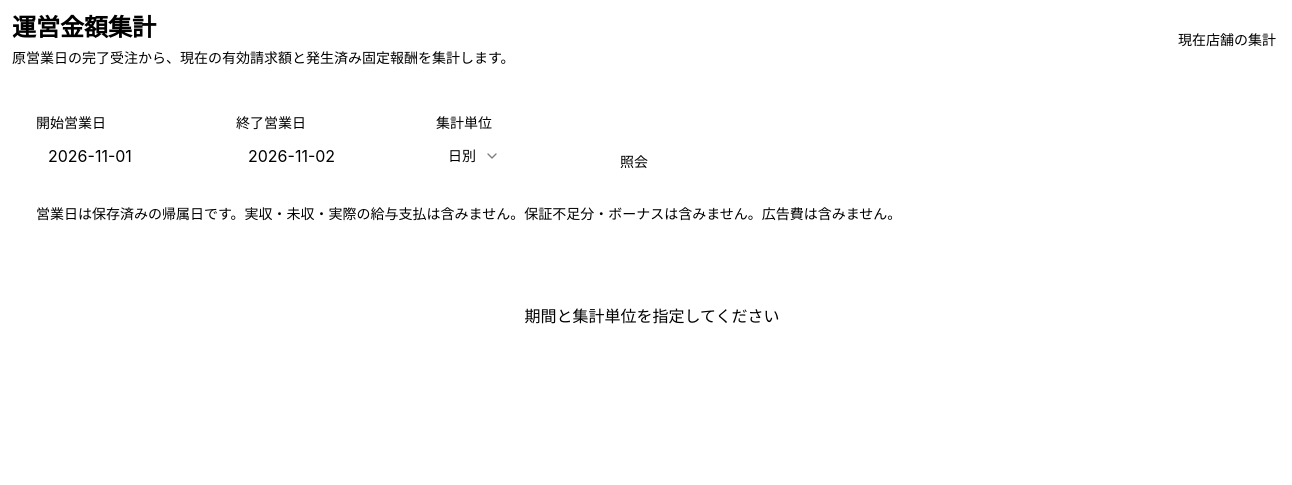
Test: view permission does not show export and failures clear totals before retry
Click the button "照会" at (634, 162), box [604,144,664,180]
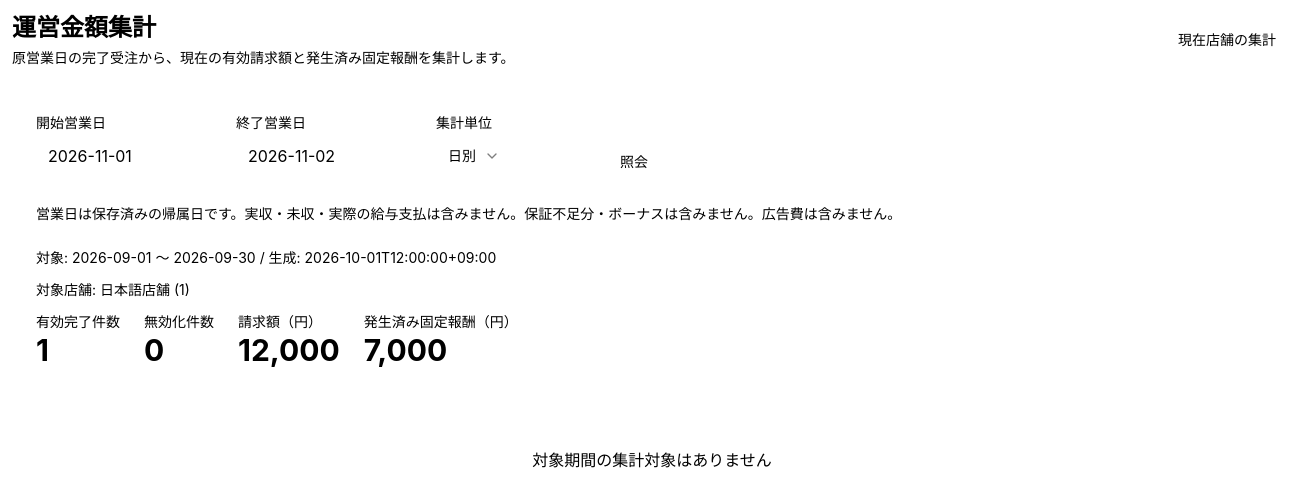
Expected: the text named "請求額（円）" reads "12,000", [238,332,340,368]
Click the button "照会" at (634, 162), box [604,144,664,180]
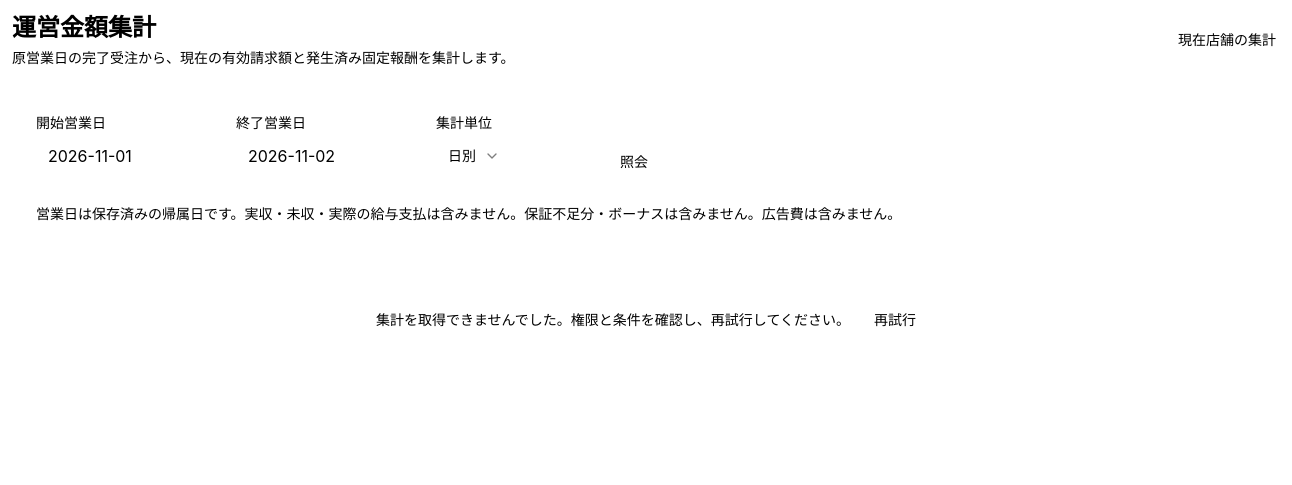
Expected: the message shows "集計を取得できませんでした", [376,311,850,328]
Expected: the text labelled "請求額（円）" is gone
Click the button "再試行" at (895, 320), box [862,304,928,336]
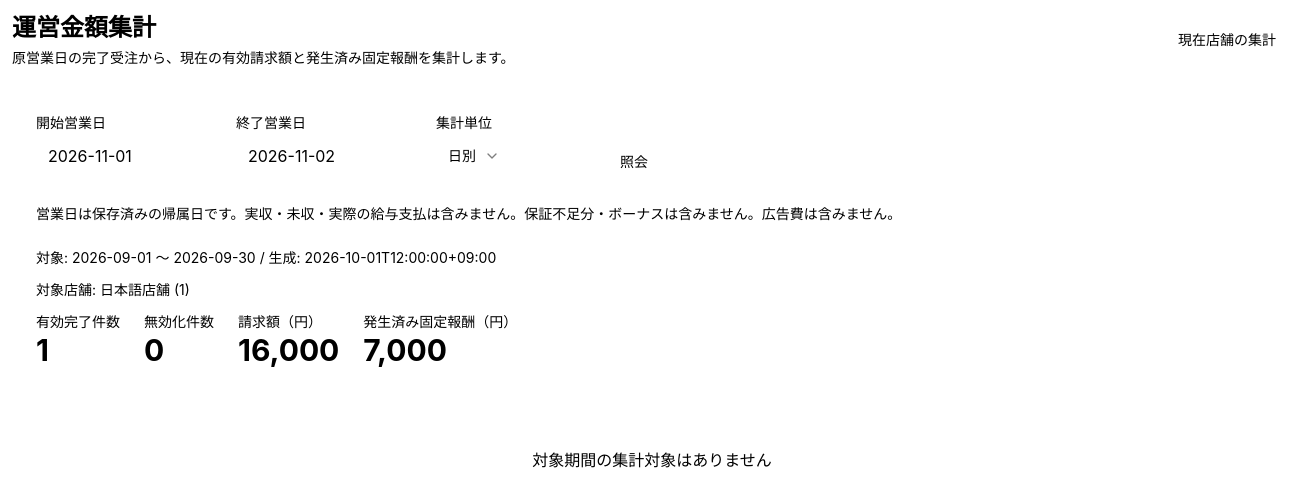
Expected: the text named "請求額（円）" reads "16,000", [238,332,339,368]
